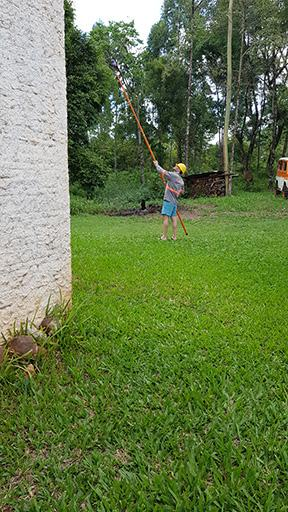Vara_Manobra: (113, 71, 188, 238)
